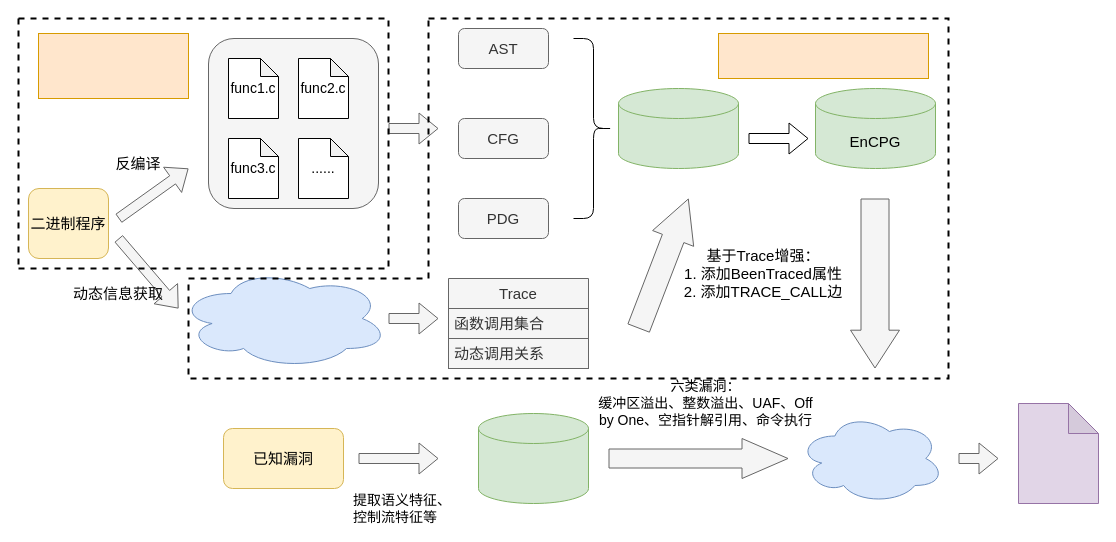
Some shapes in this 1116 by 542 pixel diagram are drawn without their labels. The centre of each missing label's shape, as x and y in pixels:
CPG: the point at 678,128
Trace采集系统: the point at 283,318
查询引擎特征匹配: the point at 871,458
漏洞报告: the point at 1058,453
漏洞特征建模: the point at 533,458
研究内容一.：基于反编译的代码属性图构建方法: the point at 113,65
研究内容二：基于动态Trace进行代码属性图增强的研究方法: the point at 823,55
